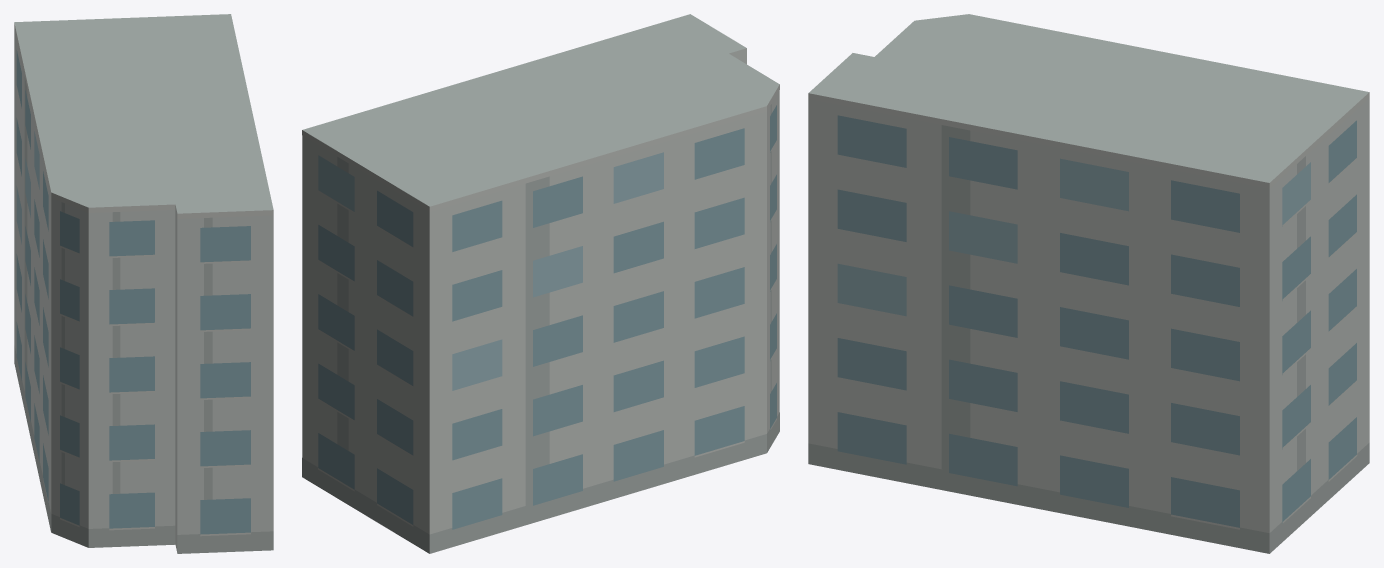
File: survey-upis-32786993.glb
3 views of the same model, side by side, from view 1: azimuth 30°, elevation 25°; view 2: azimuth 150°, elevation 25°; view 3: azimuth 270°, elevation 25° (orthographic). The views are drawn at different scales.
Visible parts, largest first — view 1: survey-upis-32786993.tmp; view 2: survey-upis-32786993.tmp; view 3: survey-upis-32786993.tmp.
Boxes of the visible parts, bbox=[...] form: survey-upis-32786993.tmp: bbox=[14, 14, 273, 553]; survey-upis-32786993.tmp: bbox=[302, 14, 779, 553]; survey-upis-32786993.tmp: bbox=[808, 14, 1369, 553].
Bounding box in the file's own units: 15.15 × 15.5 × 21.27.
